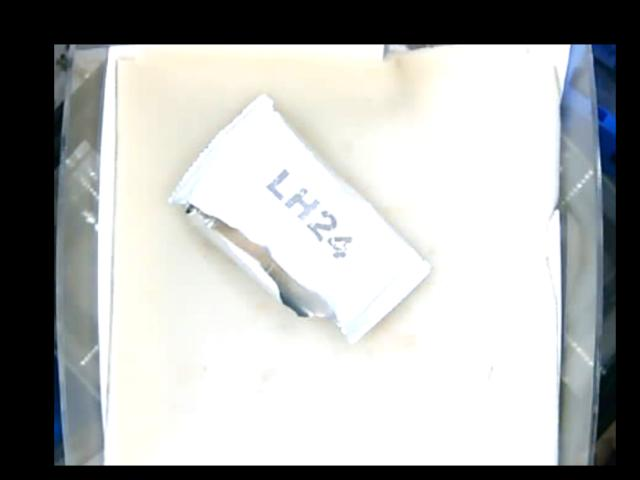Medicine: (167, 93, 430, 344)
